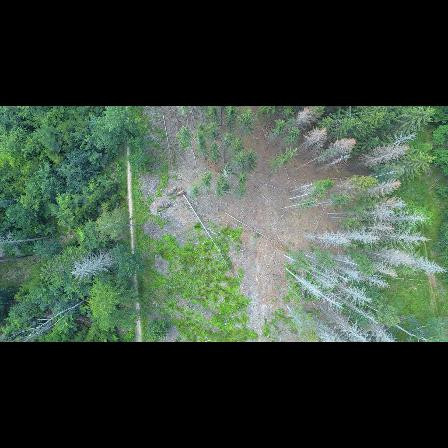Dead: (288, 270, 343, 312), (375, 246, 446, 273), (320, 310, 370, 341), (342, 310, 392, 341), (360, 141, 413, 169), (70, 250, 116, 279), (370, 225, 431, 245), (364, 178, 405, 198), (311, 264, 348, 285), (325, 136, 360, 158), (309, 232, 354, 248), (384, 209, 431, 224), (345, 226, 379, 245), (329, 253, 365, 269), (329, 268, 364, 284), (304, 126, 327, 150), (325, 152, 353, 171), (356, 272, 388, 288), (298, 107, 315, 133)
